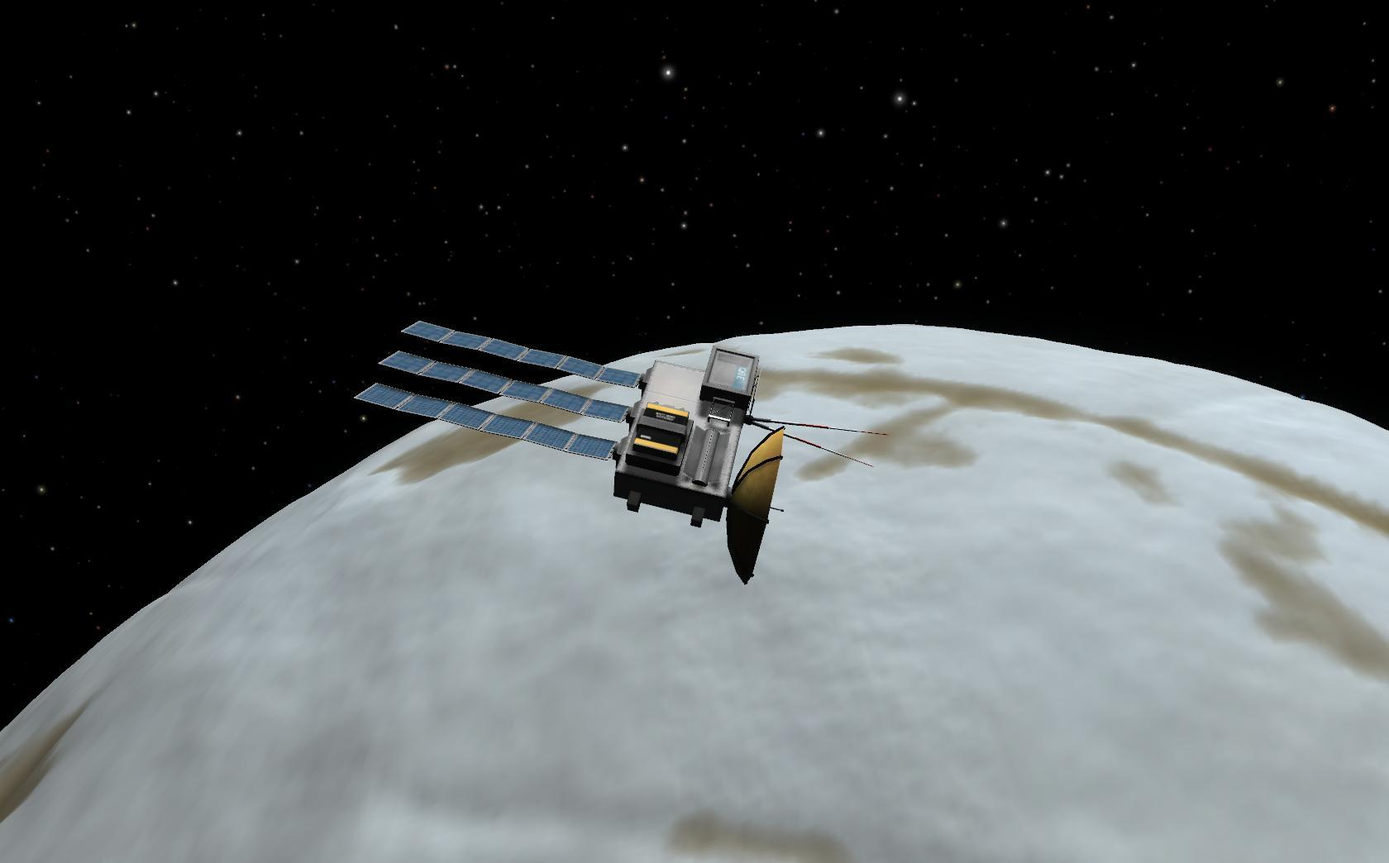antenna: (724, 422, 787, 589), (751, 419, 877, 469), (747, 416, 892, 438)
body: (610, 343, 762, 530)
solar: (351, 381, 620, 462), (377, 349, 631, 424), (400, 318, 643, 389)
